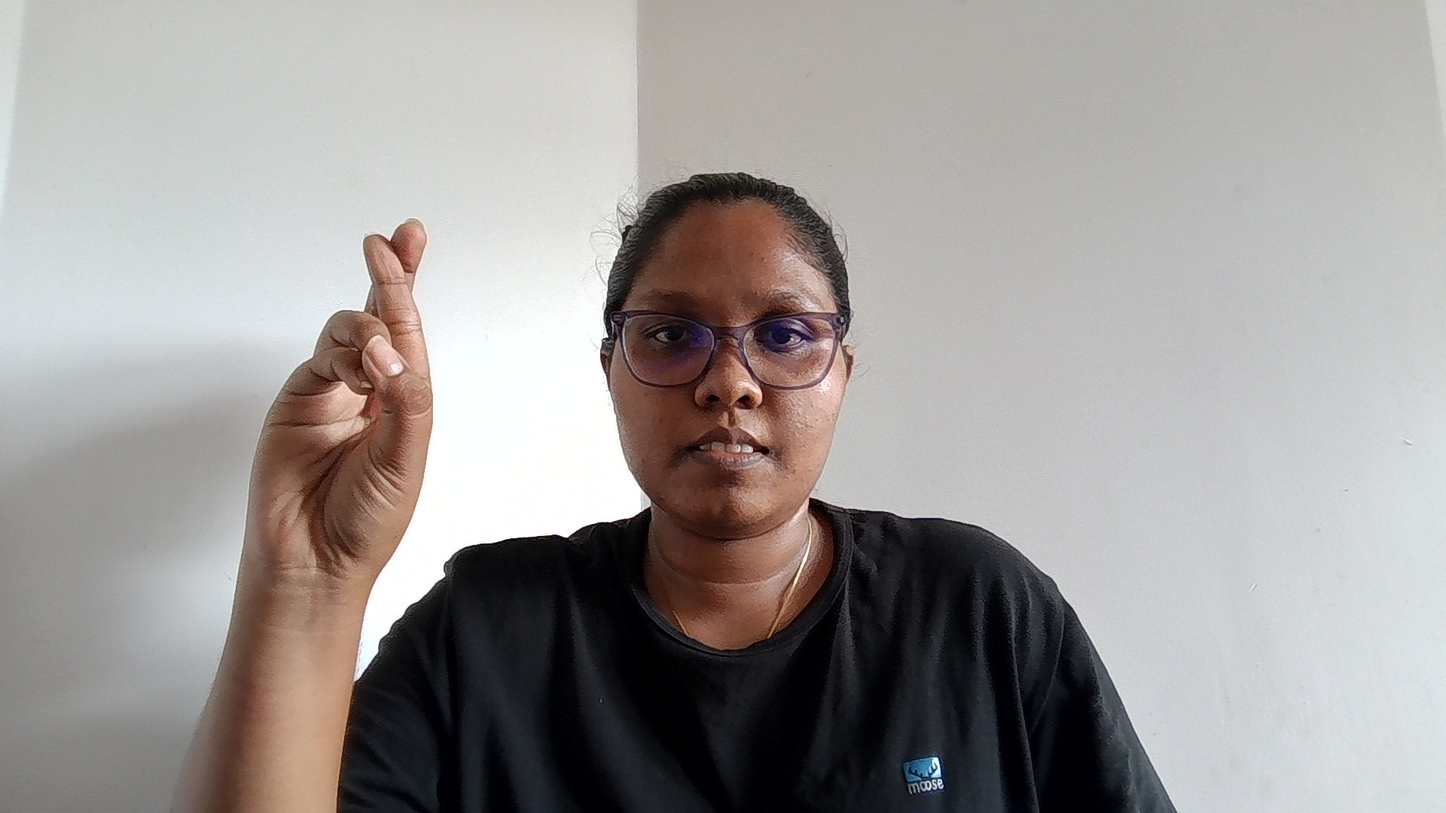Good_Luck: (203, 167, 460, 694)
